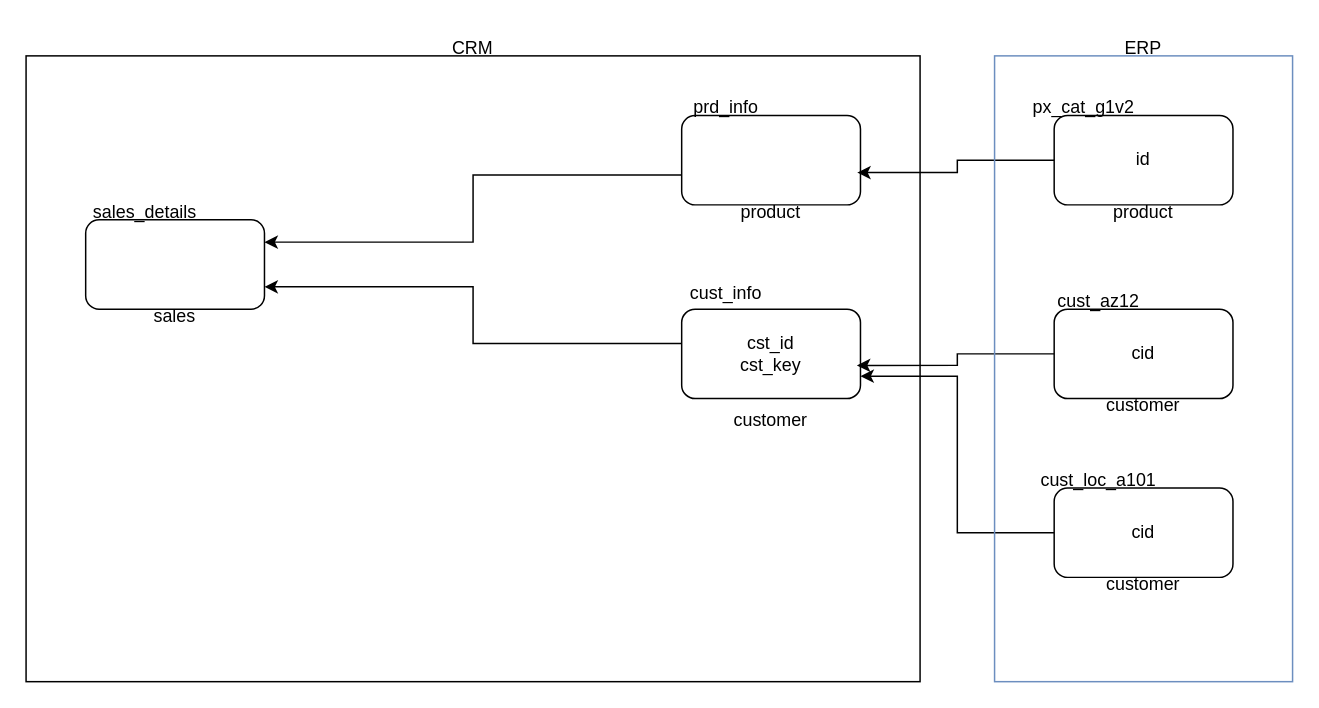
Image size: 1319x708. Some labels were removed from this diagram. The shapes that lost their labels are listed below. From the top down, each one's centre as x and y in pixels, then its label:
At point (770, 159): "prd_key".
At point (174, 263): "sls_prd_key sls_cust_id".
